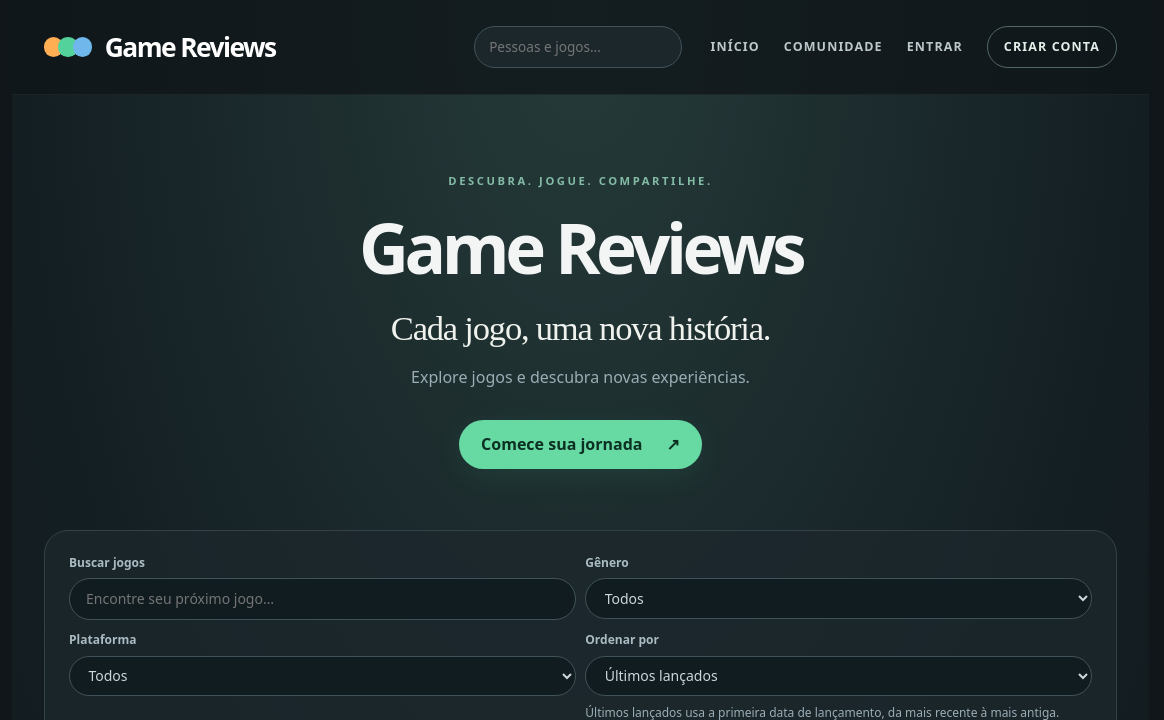
Scenario: resposta antiga não substitui busca nova e vazio continua paginado
Step 1. Type "novo" into the field labelled "Buscar jogos" → (322, 599), box [69,578,576,620]
Then press Enter
(page scrolled)
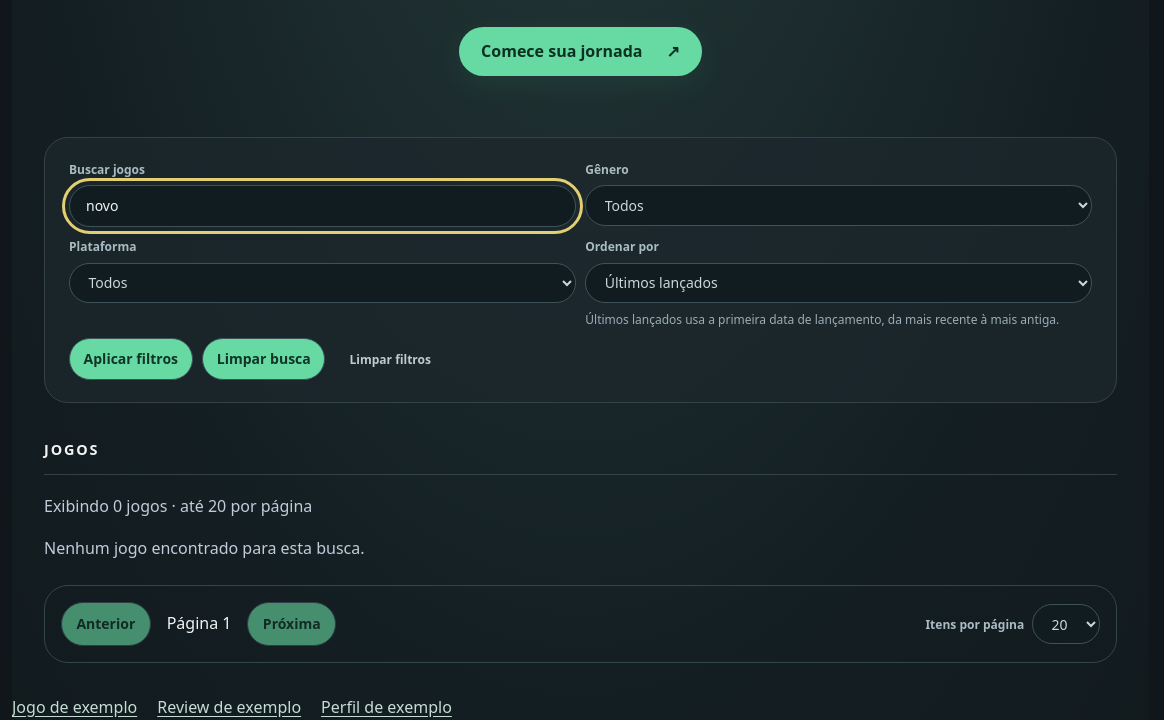
Expected: the button "Próxima" is disabled, [248,602,336,646]
Expected: the text "Nenhum jogo encontrado para esta busca." is shown, [44,537,364,559]
